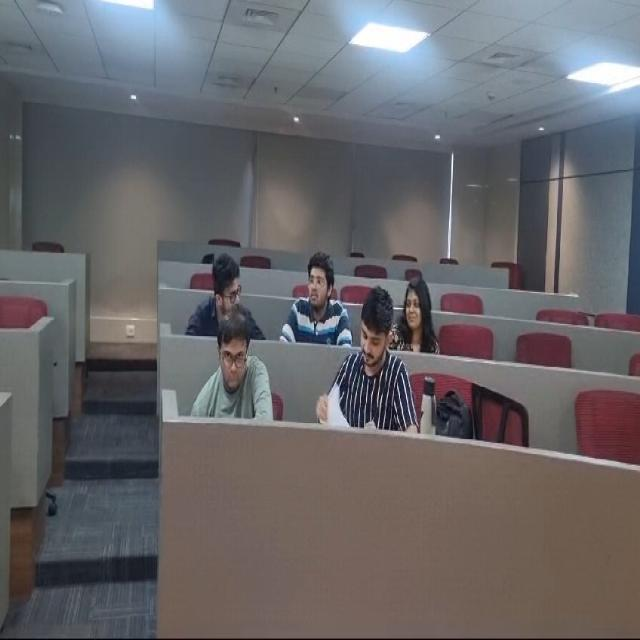cheating: (196, 326, 278, 428), (287, 244, 349, 349), (193, 258, 266, 324), (395, 260, 439, 353)
non-cheating: (329, 284, 406, 427)
